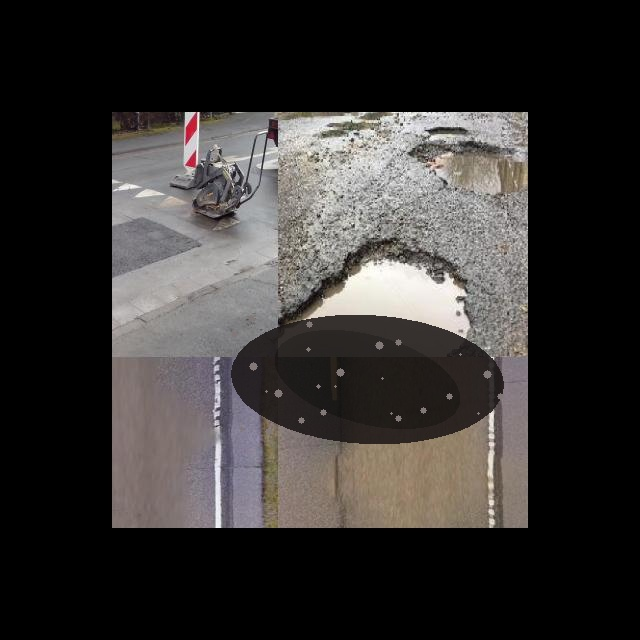pothole: (226, 310, 508, 448)
